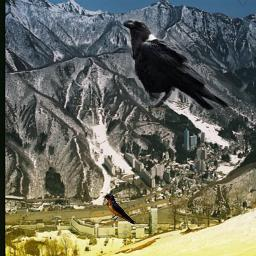Crow: (122, 15, 232, 114)
Swallow: (102, 194, 136, 225)
